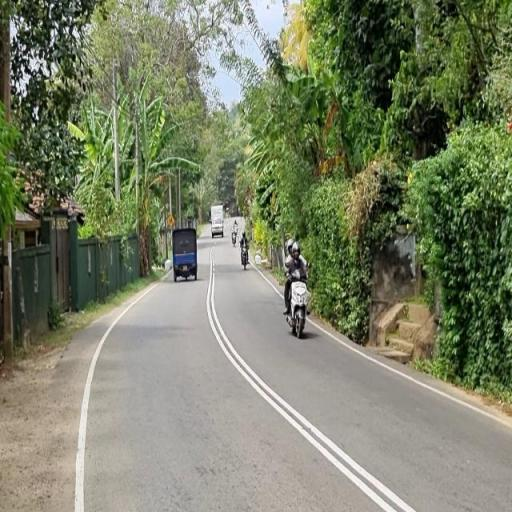double_white_line: (206, 248, 418, 512)
